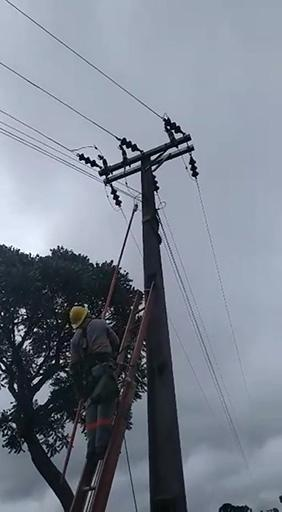Vara_Manobra: (61, 214, 135, 479)
